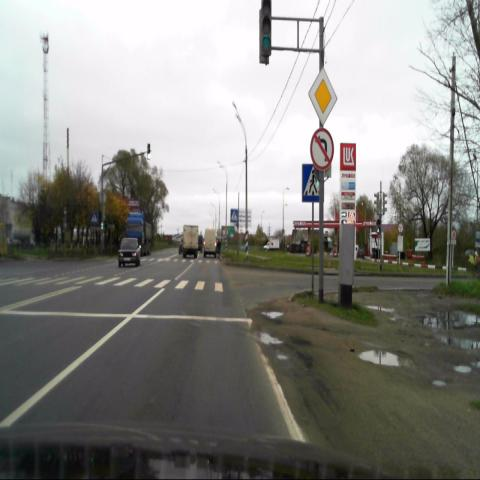3_18_2: (310, 130, 333, 172)
